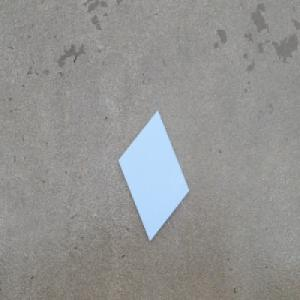PaintChip: (117, 109, 189, 242)
